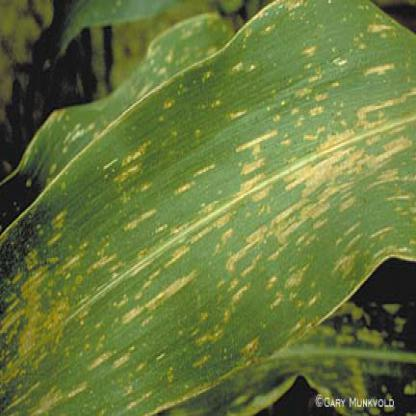Corn Gray leaf spot: (1, 2, 415, 414)
